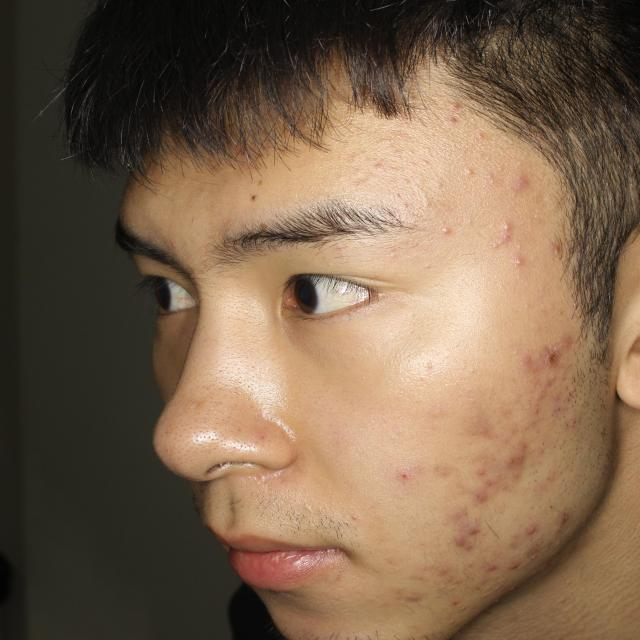Acne: (446, 478, 575, 558), (420, 563, 530, 615), (478, 212, 524, 256), (445, 99, 488, 144), (538, 335, 570, 395), (498, 167, 545, 206), (454, 400, 494, 442), (250, 178, 308, 204), (422, 218, 463, 248), (450, 160, 478, 203), (549, 227, 573, 274), (506, 442, 529, 488), (508, 341, 536, 377), (385, 580, 417, 610), (399, 464, 413, 492)
